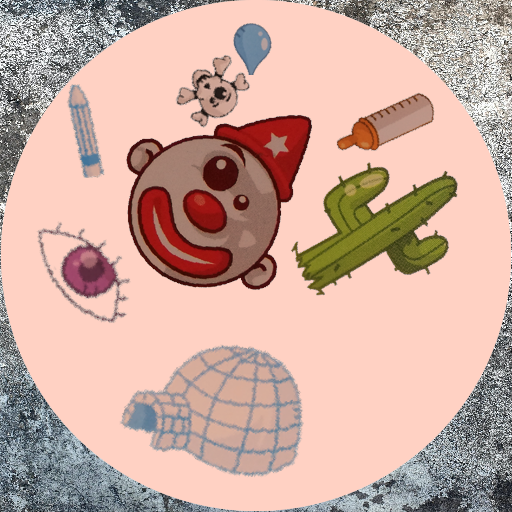bottle_icon: (332, 71, 439, 178)
cactus_icon: (277, 130, 470, 323)
clown_icon: (124, 110, 317, 303)
eye_icon: (22, 212, 143, 333)
igloo_icon: (117, 322, 306, 511)
pen_icon: (38, 84, 132, 178)
raindrop_icon: (225, 22, 278, 75)
skull_icon: (171, 52, 254, 135)
